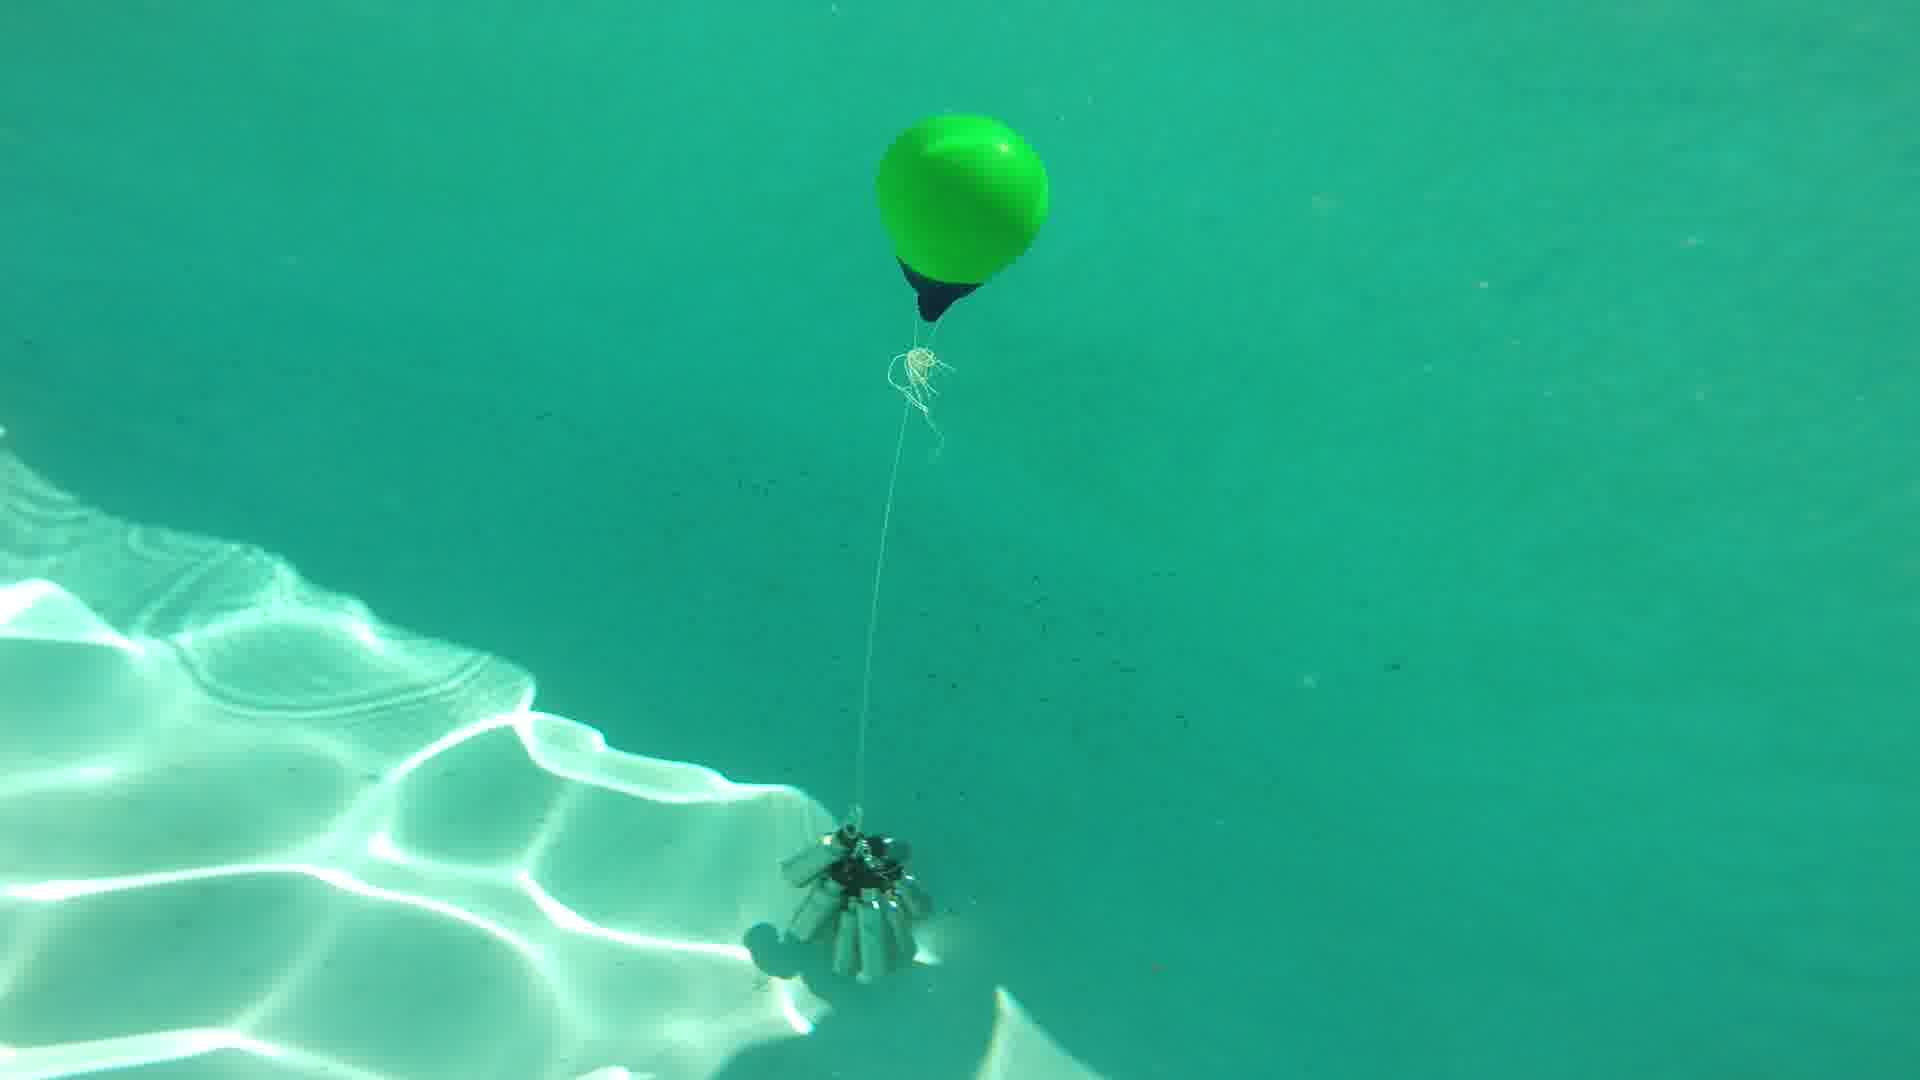yellow_buoy: (874, 112, 1048, 327)
